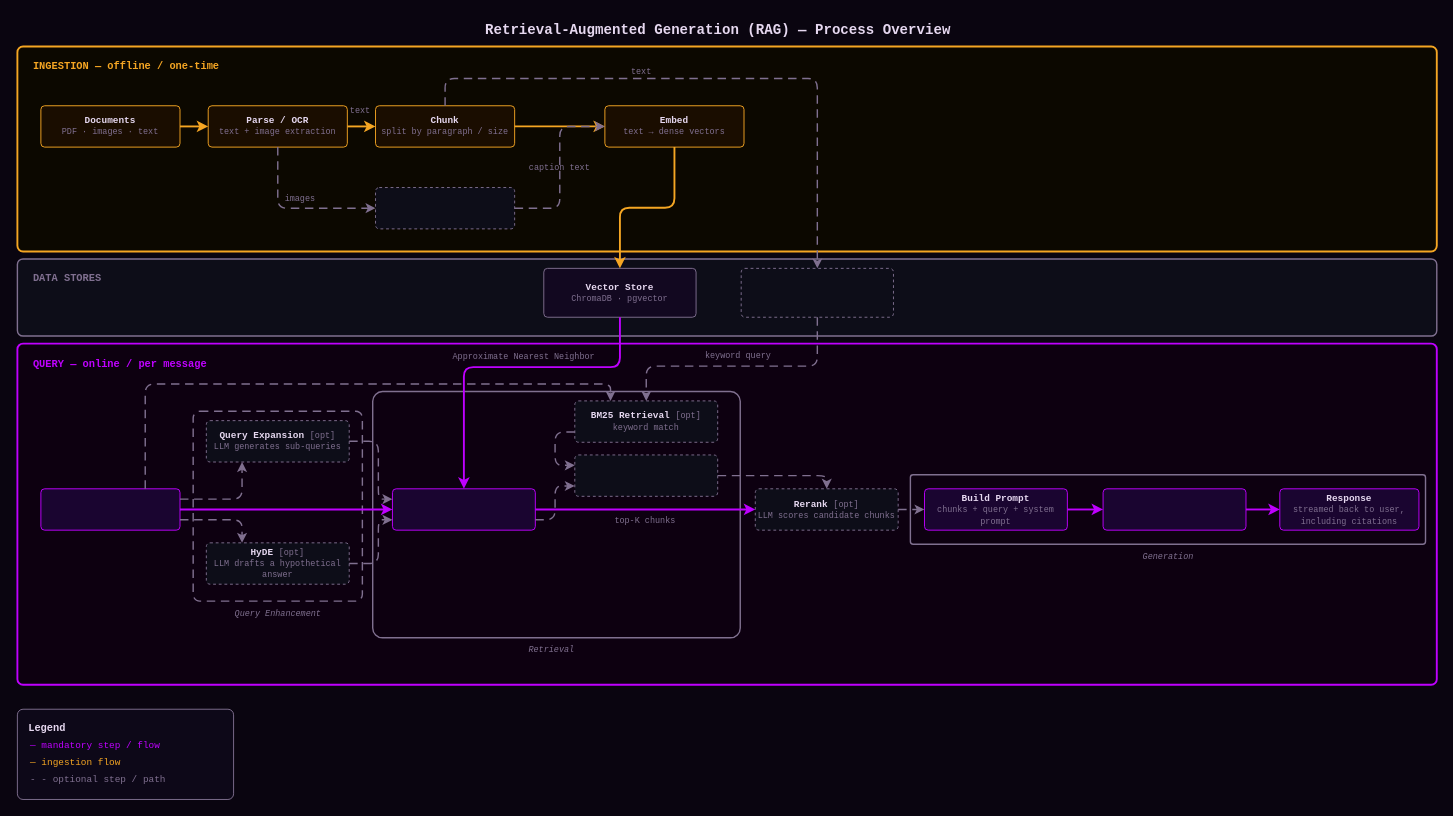
Image size: 1453x816. Some labels were removed from this diagram. The centre of each missing label's shape, as x and y in pixels:
"BM25 Index [opt] keyword index (in memory)" belongs at (x=816, y=292).
"Caption [opt] LLM describes images" belongs at (x=445, y=208).
"LLM Generate answer based on supplied context" belongs at (x=1174, y=509).
"RRF Fusion [opt] merge by rank score" belongs at (x=646, y=475).
"Semantic Retrieval ANN search in vector store" belongs at (x=463, y=509).
"User Query natural language question" belongs at (x=110, y=509).
